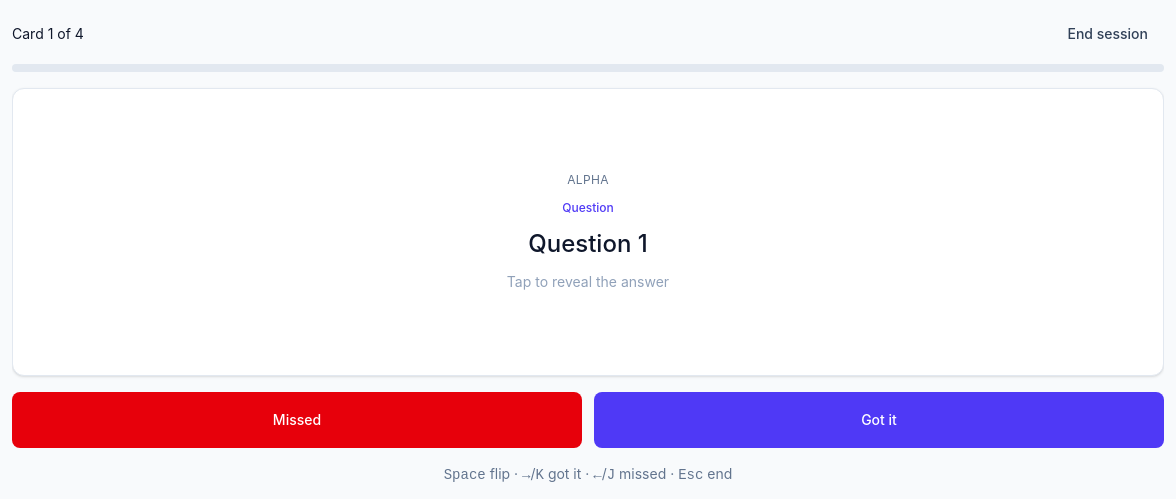
Test: study session › End session shows results for the cards answered so far
The image size is (1176, 499).
What coordinates should you click on to do the following:
click the button "Missed"
I would click on:
 (297, 420)
Its box is [12, 392, 582, 448].
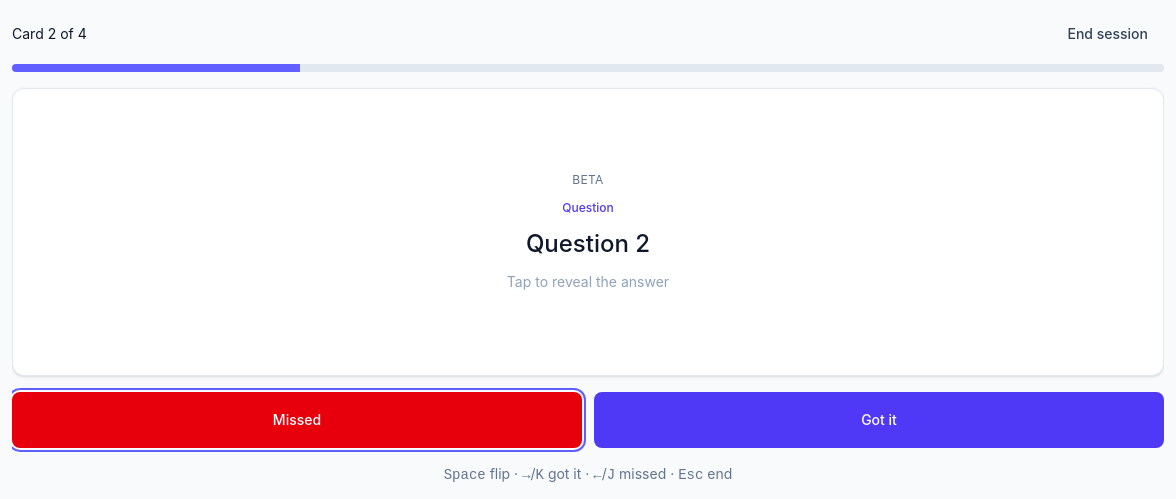
What coordinates should you click on to do the following:
click the button "End session"
I would click on:
 (1108, 34)
Its box is [1052, 12, 1164, 56].
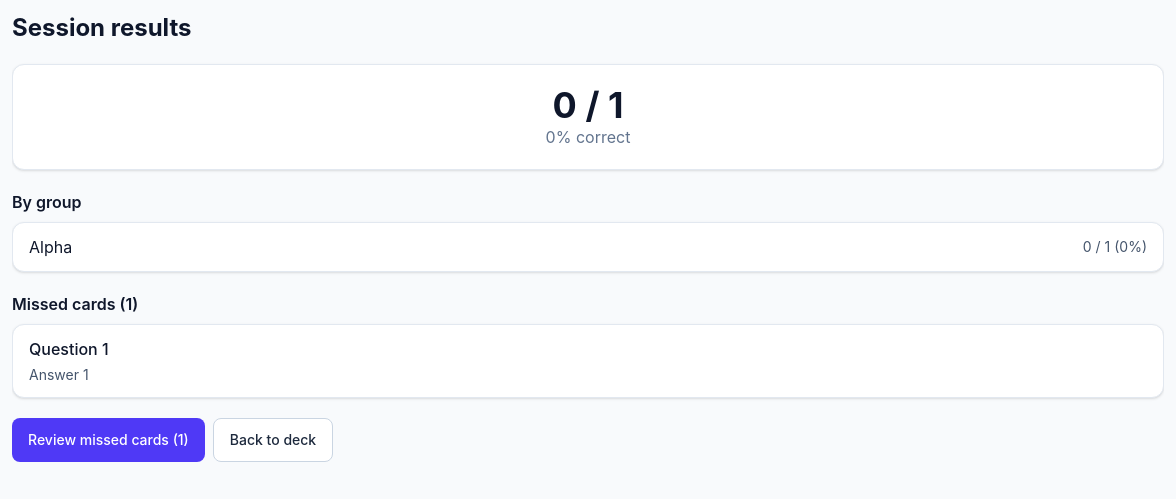
Check: the text with test id "score" reads "0 / 1", box [553, 83, 623, 127]
